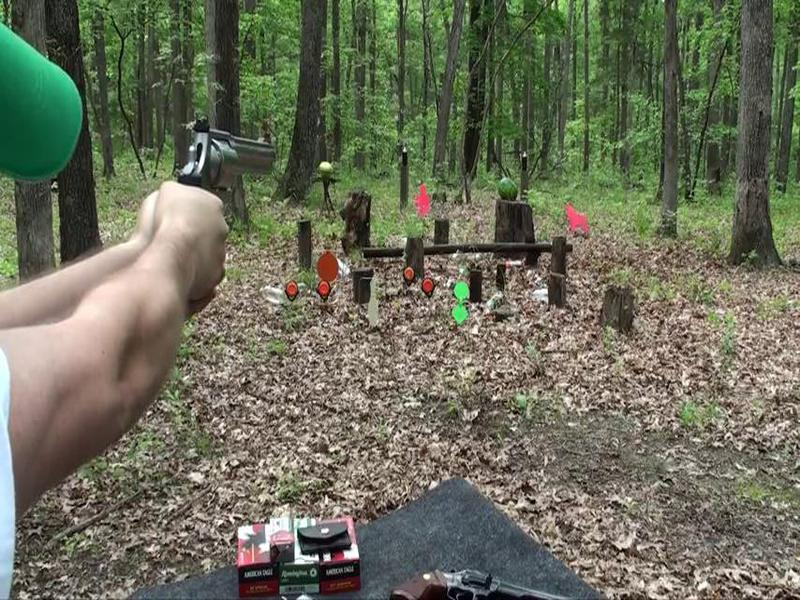Revolver: (154, 94, 297, 238)
